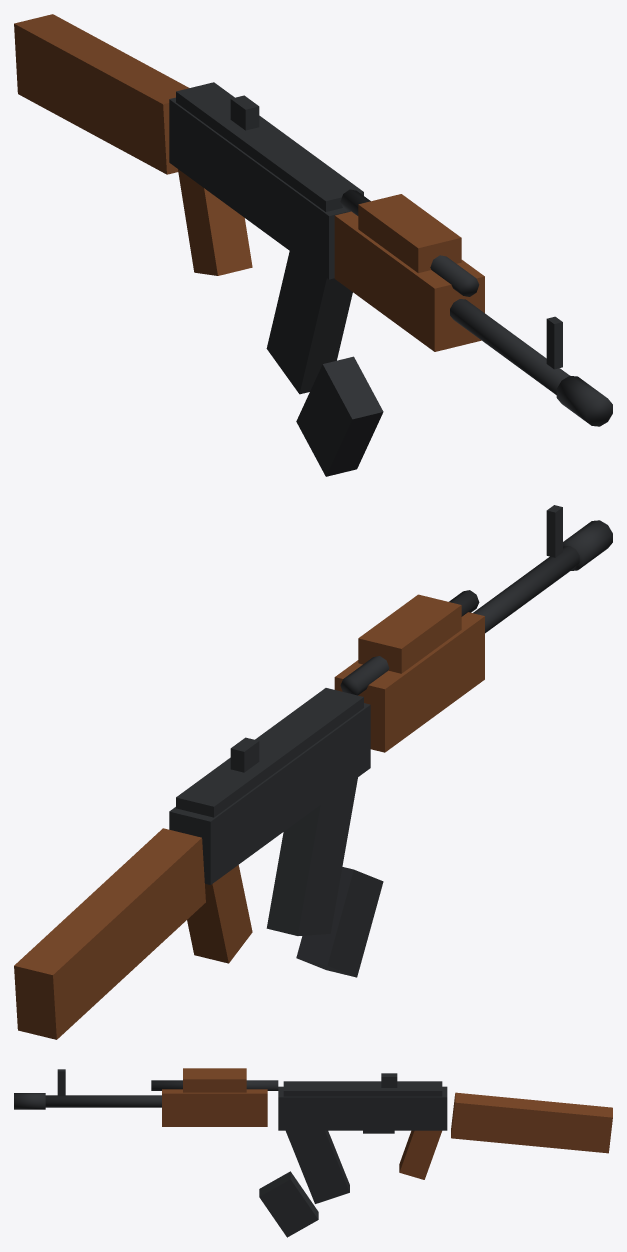
The model's file is wpn_t56.glb.
3 views of the same model, one above another, from view 1: azimuth 30°, elevation 25°; view 2: azimuth 150°, elevation 25°; view 3: azimuth 270°, elevation 25° (orthographic). The views are drawn at different scales.
Visible parts, largest first — view 1: Weapon; view 2: Weapon; view 3: Weapon.
Boxes of the visible parts, x1,y1,x2,y2 form: Weapon: (14, 14, 612, 476); Weapon: (14, 505, 612, 1039); Weapon: (14, 1068, 612, 1237).
Size of the model in its own units: 0.058 by 0.3409 by 1.13.
